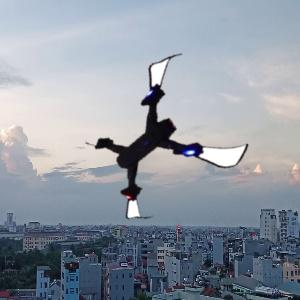drone: (87, 60, 235, 208)
